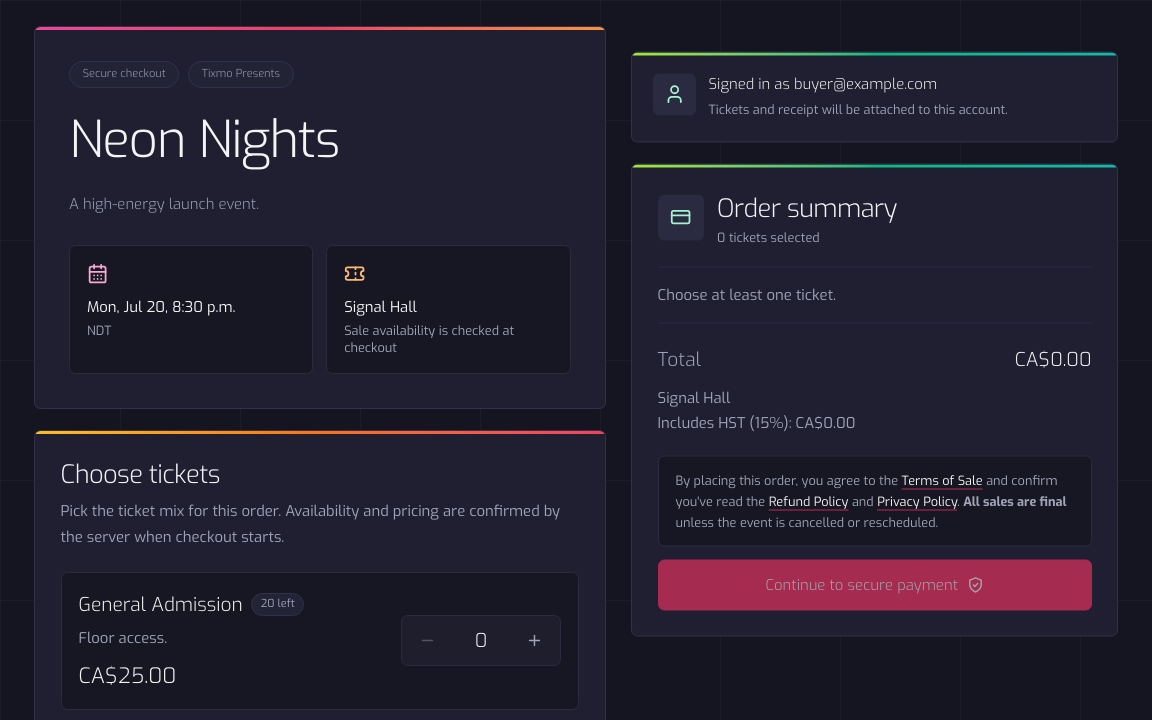
Test: CheckoutPage › shows a busy try-again message when checkout is saturated
The image size is (1152, 720).
Expected: the heading "Neon Nights" is shown, [69,106,339,174]
Click the button named "Increase General Admission" at coordinates (535, 641), box [509,616,560,665]
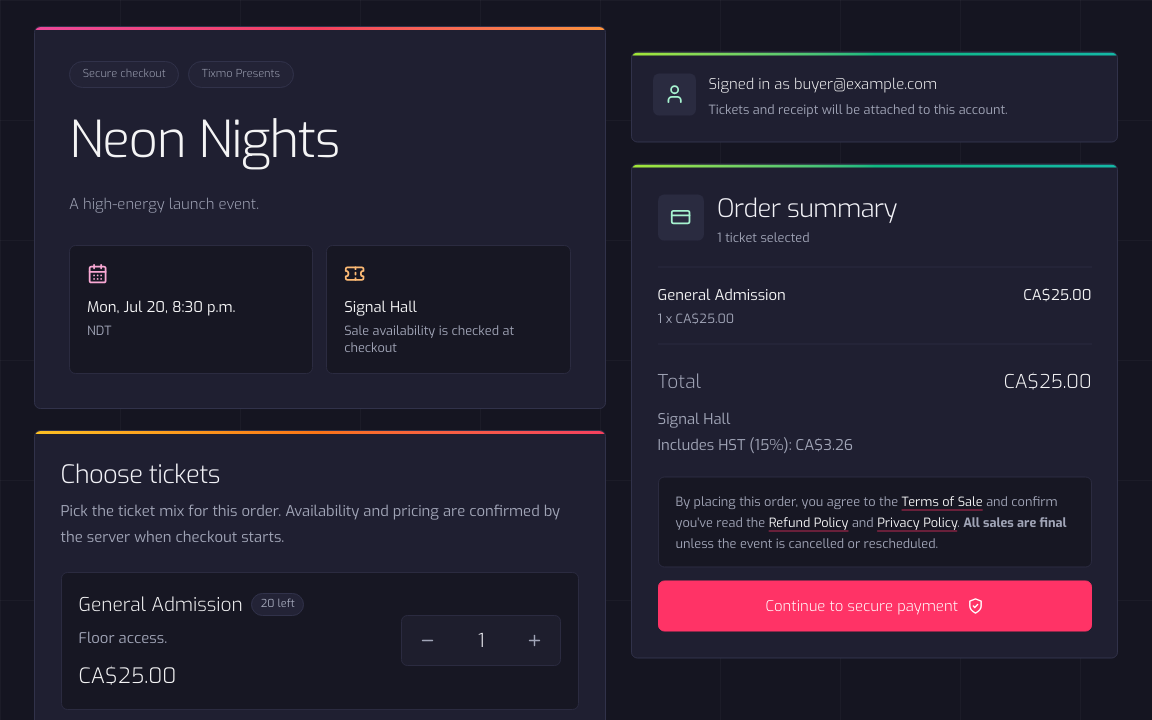
Click the button "Continue to secure payment" at coordinates (875, 606), box [658,581,1092,632]
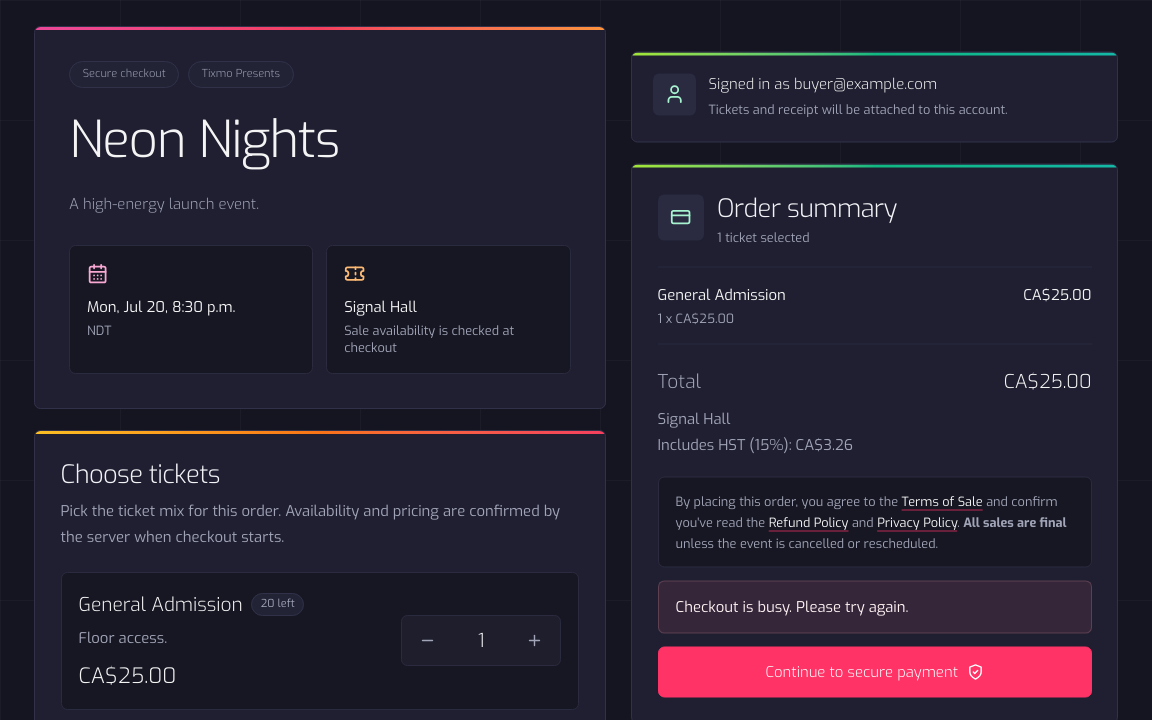
Result: the text "Checkout is busy. Please try again." is shown at [658,581,1092,634]
